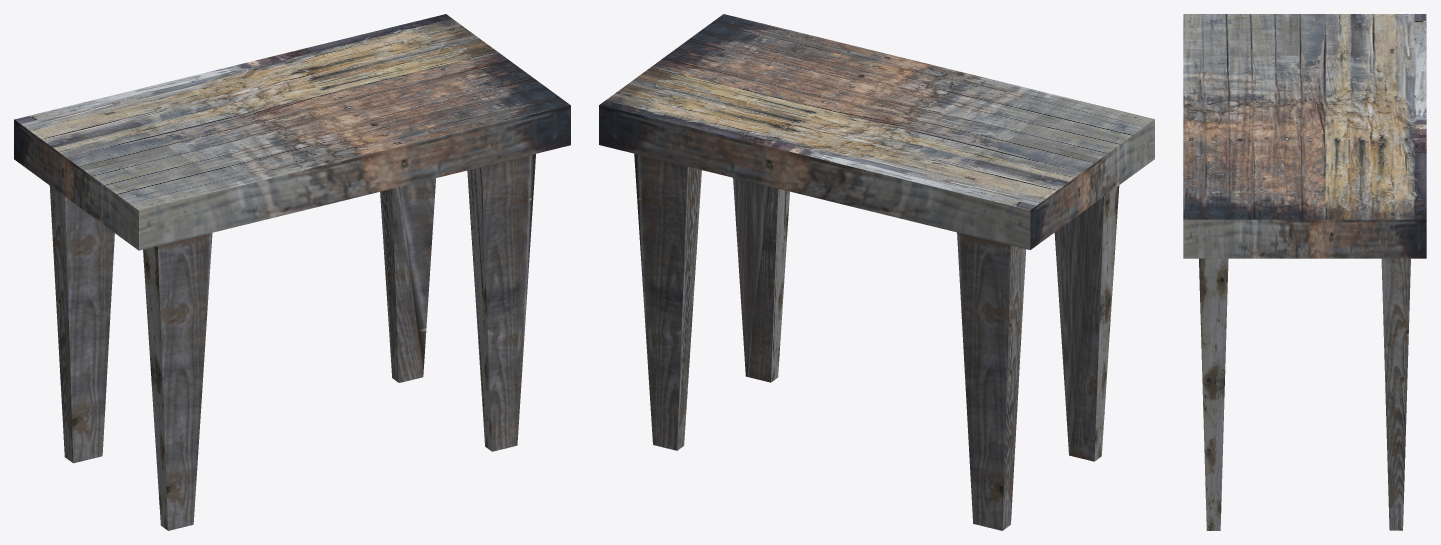
The model's file is table.fbx.
3 views of the same model, side by side, from view 1: azimuth 30°, elevation 25°; view 2: azimuth 150°, elevation 25°; view 3: azimuth 270°, elevation 25° (orthographic). The views are drawn at different scales.
Parts seen in each view (by area): view 1: Cube; view 2: Cube; view 3: Cube.
Part boxes in pixels (x1=…): Cube: x1=14, y1=14, x2=570, y2=530; Cube: x1=599, y1=14, x2=1154, y2=530; Cube: x1=1183, y1=14, x2=1426, y2=530.
Size of the model in its own units: 4 by 3 by 2.
1 material, 1 textured.
